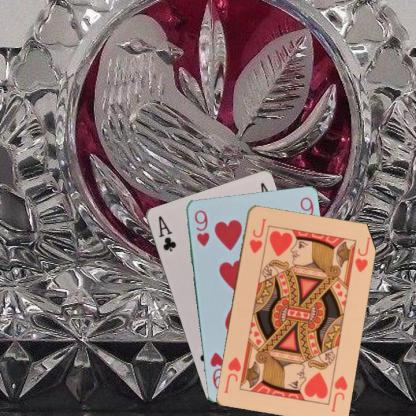9h: (191, 207, 211, 248)
Ac: (155, 213, 177, 253)
Jh: (328, 373, 349, 413), (246, 216, 268, 254)
